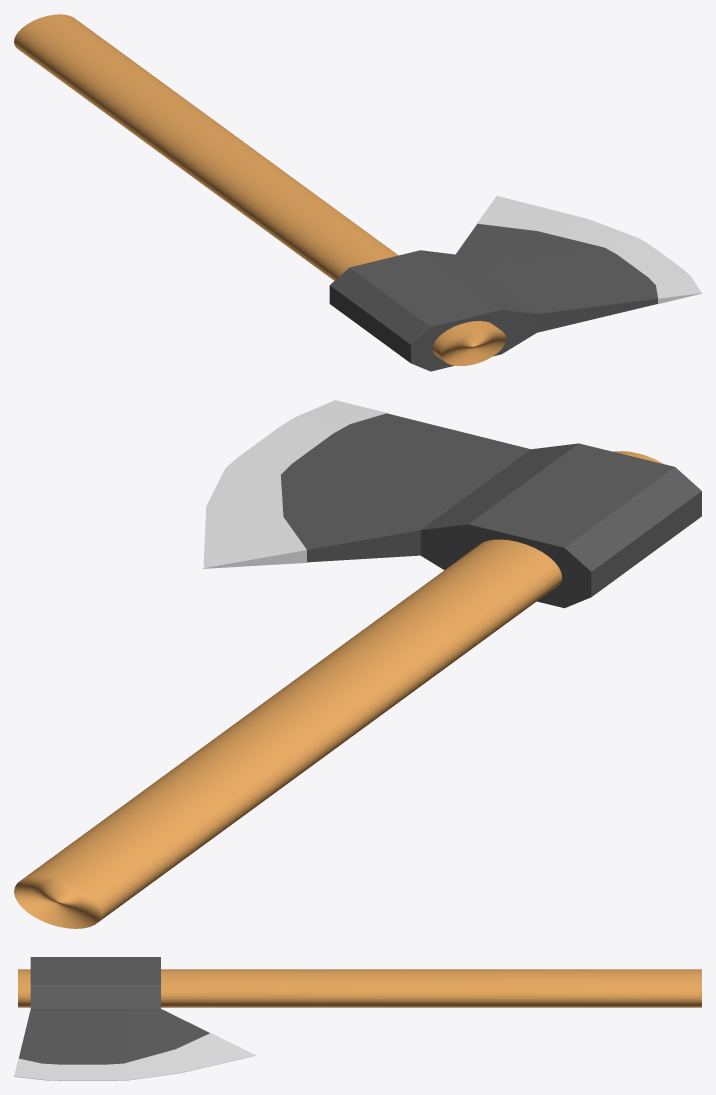
File: axe.fbx
3 views of the same model, one above another, from view 1: azimuth 30°, elevation 25°; view 2: azimuth 150°, elevation 25°; view 3: azimuth 270°, elevation 25° (orthographic). The views are drawn at different scales.
Parts seen in each view (by area): view 1: Cube.001, Cylinder; view 2: Cube.001, Cylinder; view 3: Cylinder, Cube.001.
Part boxes in pixels (x1,y1,x2,y2): Cube.001: (329, 196, 701, 371); Cylinder: (14, 14, 506, 366); Cube.001: (203, 400, 701, 608); Cylinder: (14, 451, 663, 928); Cylinder: (18, 969, 701, 1007); Cube.001: (14, 957, 255, 1080).
Size of the model in its own units: 420 by 61.45 by 1075.
